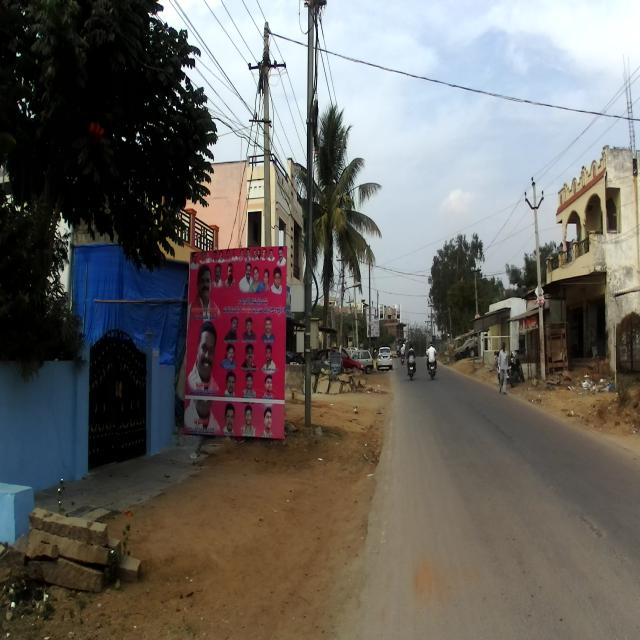electric pole ahead at: (299, 0, 321, 424)
stones ahead at: (29, 504, 142, 604)
